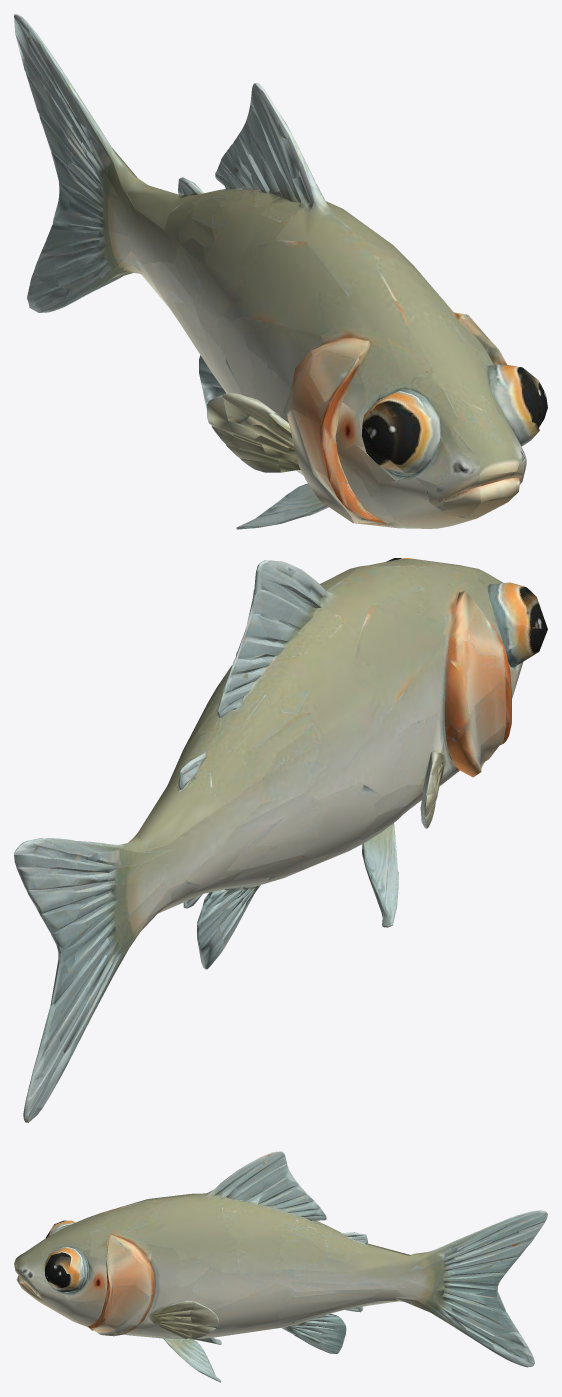
The model's file is minnow.glb.
3 views of the same model, one above another, from view 1: azimuth 30°, elevation 25°; view 2: azimuth 150°, elevation 25°; view 3: azimuth 270°, elevation 25° (orthographic). The views are drawn at different scales.
Bounding box in the file's own units: 0.5207 × 0.8857 × 2.
1 material, 1 textured.
